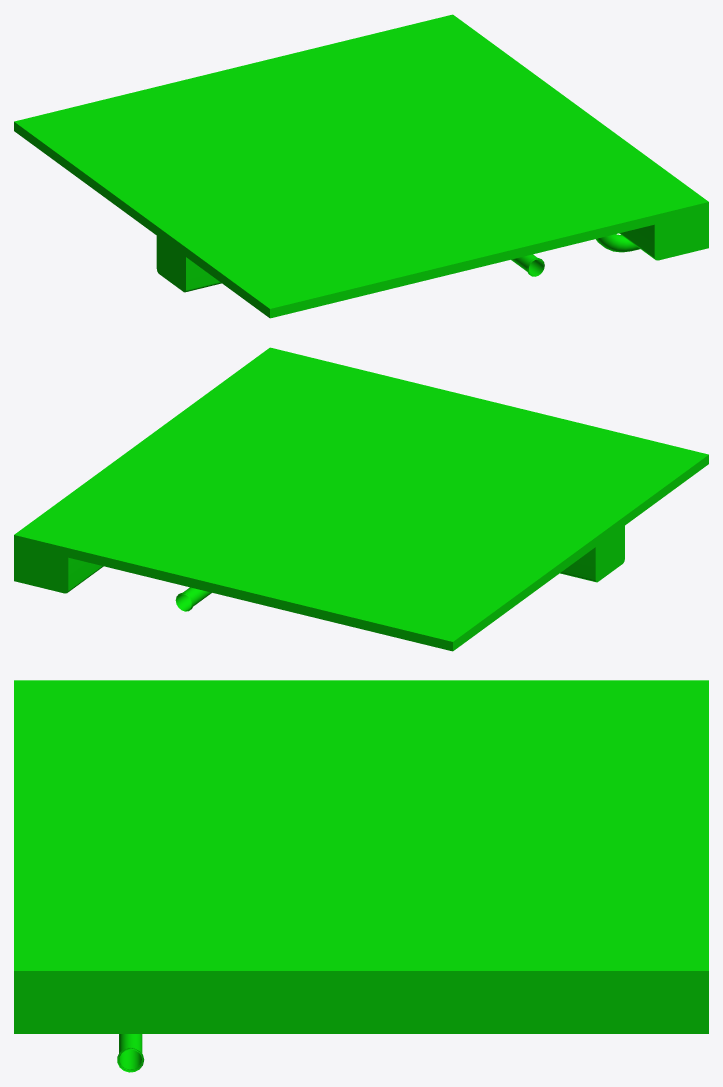
File: Cell2Ceiling.fbx
3 renders of one model, top to bottom at view 1: azimuth 30°, elevation 25°; view 2: azimuth 150°, elevation 25°; view 3: azimuth 270°, elevation 25°, orthographic. The views are drawn at different scales.
Visible parts, largest first — view 1: Cell2Ceiling; view 2: Cell2Ceiling; view 3: Cell2Ceiling.
Part boxes in pixels (bbox=[...]): Cell2Ceiling: bbox=[14, 14, 708, 318]; Cell2Ceiling: bbox=[14, 347, 708, 651]; Cell2Ceiling: bbox=[14, 680, 708, 1072].
Size of the model in its own units: 842 by 132 by 843.
